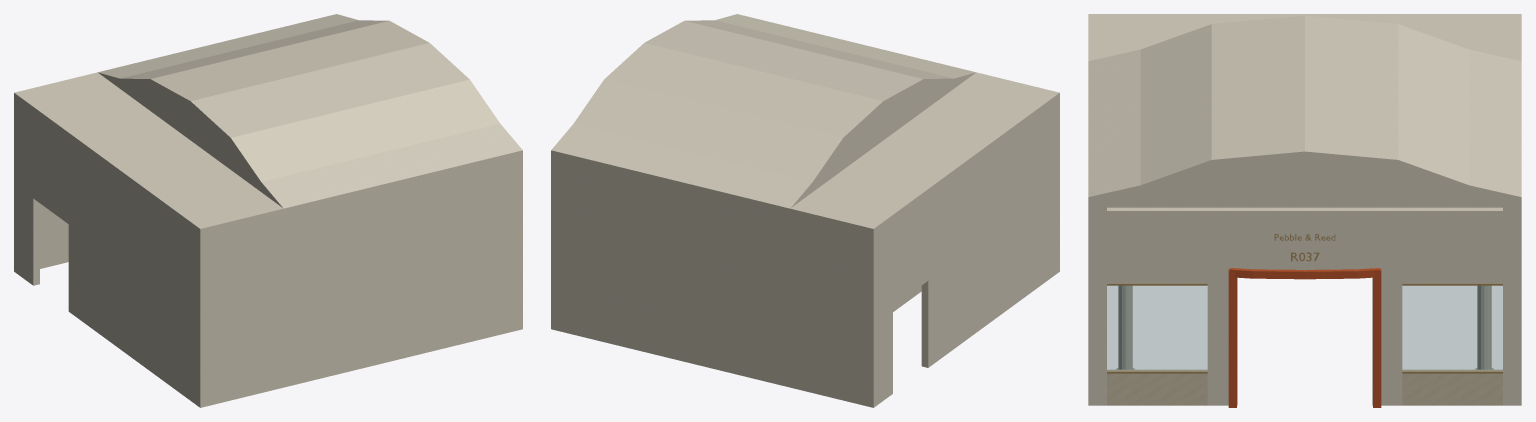
File: SHOP_D09_P100_F106__shell.glb
The picture shows the model from 3 angles, left to right: view 1: azimuth 30°, elevation 25°; view 2: azimuth 150°, elevation 25°; view 3: azimuth 270°, elevation 25°; orthographic projection. The views are drawn at different scales.
Parts seen in each view (by area): view 1: SHOP_D09_P100_F106__shell__ivory_enamel; view 2: SHOP_D09_P100_F106__shell__ivory_enamel; view 3: SHOP_D09_P100_F106__shell__ivory_enamel, SHOP_D09_P100_F106__shell__shop_glass, SHOP_D09_P100_F106__shell__warm_stone, SHOP_D09_P100_F106__shell__retail_terracotta_enamel, SHOP_D09_P100_F106__shell__champagne_metal.
Boxes of the visible parts, left/top/right/bottom form: SHOP_D09_P100_F106__shell__ivory_enamel: left=14, top=14, right=522, bottom=407; SHOP_D09_P100_F106__shell__ivory_enamel: left=551, top=14, right=1059, bottom=407; SHOP_D09_P100_F106__shell__ivory_enamel: left=1088, top=14, right=1521, bottom=405; SHOP_D09_P100_F106__shell__shop_glass: left=1107, top=286, right=1502, bottom=370; SHOP_D09_P100_F106__shell__warm_stone: left=1107, top=368, right=1502, bottom=405; SHOP_D09_P100_F106__shell__retail_terracotta_enamel: left=1228, top=268, right=1381, bottom=407; SHOP_D09_P100_F106__shell__champagne_metal: left=1107, top=234, right=1502, bottom=373.
Size of the model in its own units: 11.86 by 7.5 by 11.6.
6 materials, 4 textured.
